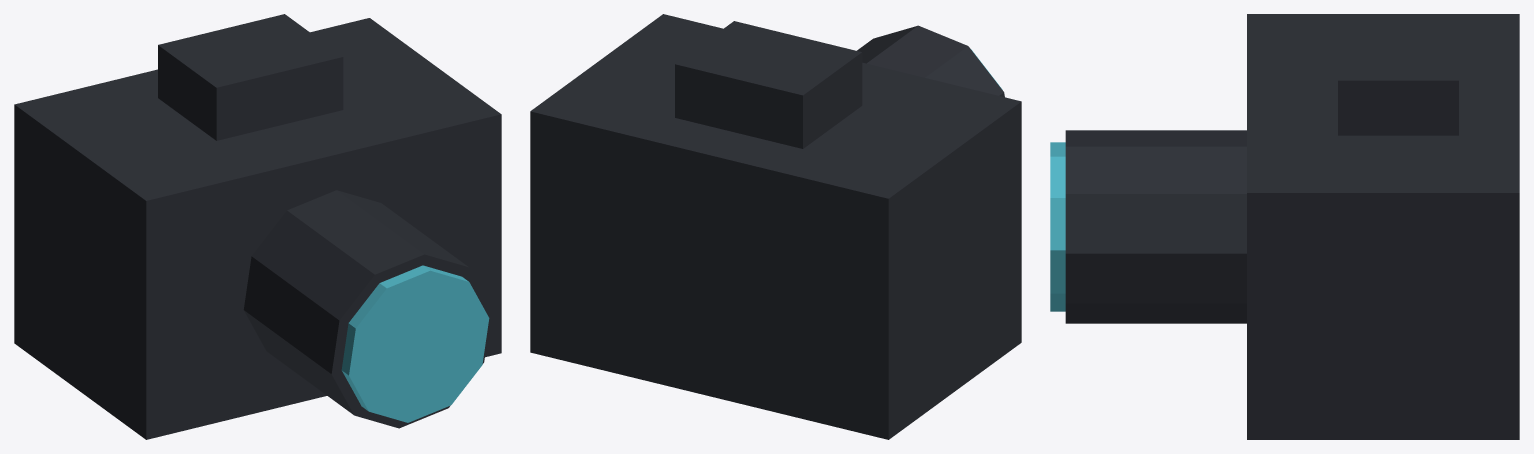
The model's file is camera.glb.
3 renders of one model, left to right at view 1: azimuth 30°, elevation 25°; view 2: azimuth 150°, elevation 25°; view 3: azimuth 270°, elevation 25°, orthographic. The views are drawn at different scales.
Visible parts, largest first — view 1: camera_mesh; view 2: camera_mesh; view 3: camera_mesh.
Part boxes in pixels (x1,y1,x2,y2): camera_mesh: (14,14,501,439); camera_mesh: (530,14,1021,439); camera_mesh: (1050,14,1519,439).
Bounding box in the file's own units: 0.14 × 0.11 × 0.155.
1 material, 1 textured.
